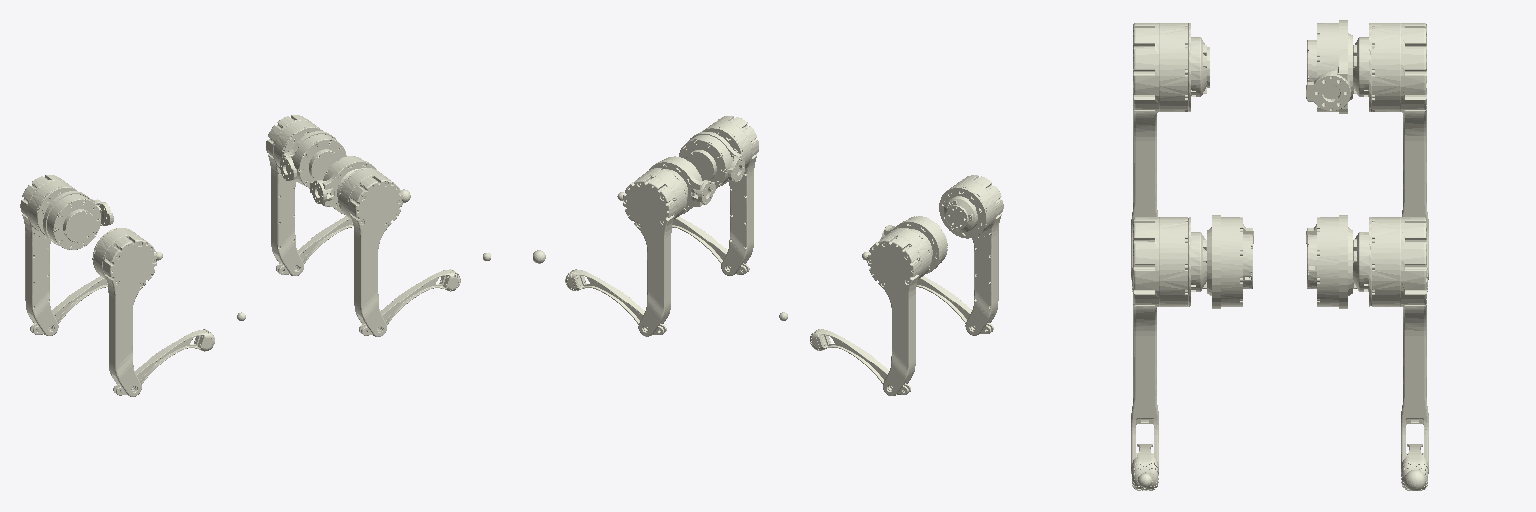
robot.urdf — mz_description:
<?xml version="1.0" ?>
<robot name="mz_description" xmlns:xacro="http://www.ros.org/wiki/xacro">
  <material name="black">
    <color rgba="0.0 0.0 0.0 1.0"/>
  </material>
  <material name="blue">
    <color rgba="0.0 0.0 0.8 1.0"/>
  </material>
  <material name="green">
    <color rgba="0.0 0.8 0.0 1.0"/>
  </material>
  <material name="grey">
    <color rgba="0.2 0.2 0.2 1.0"/>
  </material>
  <material name="silver">
    <color rgba="0.913725490196 0.913725490196 0.847058823529 1.0"/>
  </material>
  <material name="orange">
    <color rgba="0.12 0.15 0.2 1.0"/>
  </material>
  <material name="brown">
    <color rgba="0.870588235294 0.811764705882 0.764705882353 1.0"/>
  </material>
  <material name="red">
    <color rgba="0.8 0.0 0.0 1.0"/>
  </material>
  <material name="white">
    <color rgba="1.0 1.0 1.0 1.0"/>
  </material>

  <link name="base">
    <visual>
      <origin rpy="0 0 0" xyz="0 0 0"/>
      <geometry>
        <box size="0.001 0.001 0.001"/>
      </geometry>
    </visual>
  </link>
  <joint name="floating_base" type="fixed">
    <origin rpy="0 0 0" xyz="0 0 0"/>
    <parent link="base"/>
    <child link="trunk"/>
  </joint>

  <link name="trunk">
    <visual>
      <origin rpy="0 0 0" xyz="0 0 0"/>
      <geometry>
        <mesh filename="package://mz_description/meshes/trunk.dae" scale="1 1 1"/>
      </geometry>
      <material name="silver"/>
    </visual>
    <collision>
      <origin rpy="0 0 0" xyz="0 0 0.075"/>
      <geometry>
        <box size="0.470 0.3 0.150"/>
      </geometry>
    </collision>
    <!-- <collision>
      <origin rpy="0 0 0" xyz="0.33 0 0.075"/>
      <geometry>
        <box size="0.18 0.14 0.150"/>
      </geometry>
    </collision> -->
    <inertial>
      <origin rpy="0 0 0" xyz="0.038238 -0.0086038 -0.0003117"/>
      <mass value="16.6"/>
      <inertia ixx="0.124986" ixy="-2.879308e-04" ixz="0.001458170" iyy="0.491519" iyz="-6.43446e-04" izz="0.5473926"/>
    </inertial>
  </link>

  <joint name="imu_joint" type="fixed">
    <parent link="trunk"/>
    <child link="imu_link"/>
    <origin rpy="0 0 0" xyz="0 0 0"/>
  </joint>
  <link name="imu_link">
    <inertial>
      <mass value="0.001"/>
      <origin rpy="0 0 0" xyz="0 0 0"/>
      <inertia ixx="0.000001" ixy="0" ixz="0" iyy="0.000001" iyz="0" izz="0.000001"/>
    </inertial>
    <visual>
      <origin rpy="0 0 0" xyz="0 0 0"/>
      <geometry>
        <box size="0.001 0.001 0.001"/>
      </geometry>
      <material name="silver"/>
    </visual>
  </link>

  <joint name="FR_hip_joint" type="revolute">
    <origin rpy="0 0 0" xyz="0.22626 -0.070008 0.075"/>
    <parent link="trunk"/>
    <child link="FR_hip"/>
    <axis xyz="1 0 0"/>
    <dynamics damping="0" friction="0"/>
    <limit effort="60" lower="-1.04" upper="1.04" velocity="9"/>
  </joint>

  <link name="FR_hip">
    <visual>
      <origin xyz="0 0 0" rpy="0 0 0" />
      <geometry>
        <mesh filename="package://mz_description/meshes/FR_hip.dae" scale="1 1 1"/>
      </geometry>
      <material name="silver"/>
    </visual>
    <!-- <collision>
      <origin rpy="1.57079632679 0 0" xyz="0 0 0"/>
      <geometry>
        <cylinder length="0.04" radius="0.046"/>
      </geometry>
    </collision> -->
    <inertial>
      <origin rpy="0 0 0" xyz="0.083541 -0.0016537 1.2994E-05"/>
      <mass value="1.6"/>
      <inertia ixx="0.001582101" ixy="-0.0001151304" ixz="-4.046387E-06" iyy="0.002797035" iyz="0.000004285818" izz="0.001731282"/>
    </inertial>
  </link>

  <joint name="FR_hip_fixed" type="fixed">
    <origin rpy="0 0 0" xyz="0 -0.081 0"/>
    <parent link="FR_hip"/>
    <child link="FR_thigh_shoulder"/>
  </joint>
  <!-- this link is only for collision -->
  <link name="FR_thigh_shoulder">
    <!-- <collision>
      <origin rpy="1.57079632679 0 0" xyz="0 0 0"/>
      <geometry>
        <cylinder length="0.032" radius="0.041"/>
      </geometry>
    </collision> -->
  </link>

  <joint name="FR_thigh_joint" type="revolute">
    <origin rpy="0 0 0" xyz="0.08775 -0.02125 0"/>
    <parent link="FR_hip"/>
    <child link="FR_thigh"/>
    <axis xyz="0 1 0"/>
    <dynamics damping="0" friction="0"/>
    <limit effort="60" lower="-1.482" upper="3.9269" velocity="9"/>
  </joint>

  <link name="FR_thigh">
    <visual>
      <origin rpy="0 0 0" xyz="0 0 0"/>
      <geometry>
        <mesh filename="package://mz_description/meshes/thigh.dae" scale="1 1 1"/>
      </geometry>
      <material name="silver"/>
    </visual>
    <collision>
      <origin xyz="-0.022 -0.094 -0.115" rpy="0 0 0" />
      <geometry>
        <box size="0.04 0.025 0.30"/>
      </geometry>
    </collision>
    <inertial>
      <origin rpy="0 0 0" xyz="-0.0027386 -0.061044 -0.025431"/>
      <mass value="2.7"/>
      <inertia ixx="0.0370827" ixy="-0.0005225046" ixz="-0.002171109" iyy="0.03654717" iyz="-0.004972422" izz="0.004880799"/>
    </inertial>
  </link>

  <joint name="FR_calf_joint" type="revolute">
    <origin rpy="0 0 0" xyz="0 -0.09275 -0.3"/>
    <parent link="FR_thigh"/>
    <child link="FR_calf"/>
    <axis xyz="0 1 0"/>
    <dynamics damping="0" friction="0"/>
    <limit effort="60" lower="-2.8099" upper="-1.0297" velocity="9"/>
  </joint>

  <link name="FR_calf">
    <visual>
      <origin rpy="0 0 0" xyz="0 0 0"/>
      <geometry>
        <mesh filename="package://mz_description/meshes/calf.dae" scale="1 1 1"/>
      </geometry>
      <material name="silver"/>
    </visual>
    <collision>
      <origin xyz="0.018 0 -0.11" rpy="0 -0.30 0" />
      <geometry>
        <box size= "0.02 0.02 0.18"/>
      </geometry>
    </collision>
    <collision>
      <origin xyz="0.03 0 -0.245" rpy="0 0.35 0" />
      <geometry>
        <box size= "0.02 0.02 0.08"/>
      </geometry>
    </collision>
    <inertial>
      <origin rpy="0 0 0" xyz="0.0079835 -6.7794E-06 -0.18022"/>
      <mass value="0.23"/>
      <inertia ixx="0.00650717" ixy="0.0" ixz="0.0003660643" iyy="0.006566385" iyz="0.0" izz="0.0001884405"/>
    </inertial>
  </link>

  <joint name="FR_foot_fixed" type="fixed" dont_collapse="true">
    <origin rpy="0 0 0" xyz="0 0 -0.302"/>
    <parent link="FR_calf"/>
    <child link="FR_foot"/>
  </joint>

  <link name="FR_foot">
    <visual>
      <origin rpy="0 0 0" xyz="0 0 0"/>
      <geometry>
        <sphere radius="0.01"/>
      </geometry>
      <material name="silver"/>
    </visual>
    <collision>
      <origin rpy="0 0 0" xyz="0 0 0"/>
      <geometry>
        <!-- <sphere radius="0.02"/> -->
        <sphere radius="0.0235"/>
      </geometry>
    </collision>
    <inertial>
      <mass value="0.07"/>
      <inertia ixx="0.00002111109" ixy="0.0" ixz="0.000006111105" iyy="0.000022777755" iyz="0.0" izz="0.00002333331"/>
    </inertial>
  </link>

  <joint name="FL_hip_joint" type="revolute">
    <origin rpy="0 0 0" xyz="0.22626 0.069992 0.075"/>
    <parent link="trunk"/>
    <child link="FL_hip"/>
    <axis xyz="1 0 0"/>
    <dynamics damping="0" friction="0"/>
    <limit effort="60" lower="-1.04" upper="1.04" velocity="9"/>
  </joint>

  <link name="FL_hip">
    <visual>
      <!-- the same as a1 -->
      <origin rpy="0 0 0" xyz="0 0 0"/>
      <geometry>
        <mesh filename="package://mz_description/meshes/FL_hip.dae" scale="1 1 1"/>
      </geometry>
      <material name="silver"/>
    </visual>
    <inertial>
      <origin rpy="0 0 0" xyz="0.083541 0.0016537 -1.2994E-05"/>
      <mass value="1.6"/>
      <inertia ixx="0.001986561" ixy="0.000042857612" ixz="-0.00000022566089" iyy="0.002917609" iyz="0.00000000239428" izz="0.002219916"/>
    </inertial>
  </link>

  <joint name="FL_hip_fixed" type="fixed">
    <origin rpy="0 0 0" xyz="0 0.081 0"/>
    <parent link="FL_hip"/>
    <child link="FL_thigh_shoulder"/>
  </joint>
  <!-- this link is only for collision -->
  <link name="FL_thigh_shoulder">
    <!-- <collision>
      <origin rpy="1.57079632679 0 0" xyz="0 0 0"/>
      <geometry>
        <cylinder length="0.032" radius="0.041"/>
      </geometry>
    </collision> -->
  </link>

  <joint name="FL_thigh_joint" type="revolute">
    <origin rpy="0 0 0" xyz="0.08775 0.02125 0"/>
    <parent link="FL_hip"/>
    <child link="FL_thigh"/>
    <axis xyz="0 1 0"/>
    <dynamics damping="0" friction="0"/>
    <limit effort="60" lower="-1.482" upper="3.9269" velocity="9"/>
  </joint>

  <link name="FL_thigh">
    <visual>
      <origin rpy="0 0 0" xyz="0 0 0"/>
      <geometry>
        <mesh filename="package://mz_description/meshes/thigh_mirror.dae" scale="1 1 1"/>
      </geometry>
      <material name="silver"/>
    </visual>
    <collision>
      <origin xyz="-0.022 0.094 -0.115" rpy="0 0 0" />
      <geometry>
        <box size="0.04 0.025 0.30"/>
      </geometry>
    </collision>
    <inertial>
      <origin rpy="0 0 0" xyz="-0.0027198 0.061044 -0.025411"/>
      <mass value="2.7"/>
      <inertia ixx="0.0370822" ixy="0.0005224988" ixz="-0.002171101" iyy="0.03654652" iyz="0.00497237" izz="0.004880707"/>
    </inertial>
  </link>

  <joint name="FL_calf_joint" type="revolute">
    <origin rpy="0 0 0" xyz="0 0.09275 -0.3"/>
    <parent link="FL_thigh"/>
    <child link="FL_calf"/>
    <axis xyz="0 1 0"/>
    <dynamics damping="0" friction="0"/>
    <limit effort="60" lower="-2.8099" upper="-1.0297" velocity="9"/>
  </joint>

  <link name="FL_calf">
    <visual>
      <origin rpy="0 0 0" xyz="0 0 0"/>
      <geometry>
        <mesh filename="package://mz_description/meshes/calf.dae" scale="1 1 1"/>
      </geometry>
      <material name="silver"/>
    </visual>
    <collision>
      <origin xyz="0.018 0 -0.11" rpy="0 -0.30 0" />
      <geometry>
        <box size= "0.02 0.02 0.18"/>
      </geometry>
    </collision>
    <collision>
      <origin xyz="0.03 0 -0.245" rpy="0 0.35 0" />
      <geometry>
        <box size= "0.02 0.02 0.08"/>
      </geometry>
    </collision>
    <inertial>
      <origin rpy="0 0 0" xyz="0.0079835 -6.7598E-06 -0.18022"/>
      <mass value="0.23"/>
      <inertia ixx="0.006507178" ixy="0.0" ixz="0.0003660643" iyy="0.006566385" iyz="0.0" izz="0.0001884405"/>
    </inertial>
  </link>

  <joint name="FL_foot_fixed" type="fixed" dont_collapse="true">
    <origin rpy="0 0 0" xyz="0 0 -0.302"/>
    <parent link="FL_calf"/>
    <child link="FL_foot"/>
  </joint>

  <link name="FL_foot">
    <visual>
      <origin rpy="0 0 0" xyz="0 0 0"/>
      <geometry>
        <sphere radius="0.015"/>
      </geometry>
      <material name="silver"/>
    </visual>
    <collision>
      <origin rpy="0 0 0" xyz="0 0 0"/>
      <geometry>
        <sphere radius="0.0235"/>
      </geometry>
    </collision>
    <inertial>
      <mass value="0.07"/>
      <!-- the same as a1 -->
      <inertia ixx="2.1111e-05" ixy="0.0" ixz="0.000006111105" iyy="0.000022777755" iyz="0.0" izz="0.00002333331"/>
    </inertial>
  </link>


  <joint name="RR_hip_joint" type="revolute">
    <origin rpy="0 0 0" xyz="-0.22624 -0.070008 0.075"/>
    <parent link="trunk"/>
    <child link="RR_hip"/>
    <axis xyz="1 0 0"/>
    <dynamics damping="0" friction="0"/>
    <limit effort="60" lower="-1.04" upper="1.04" velocity="9"/>
  </joint>

  <link name="RR_hip">
    <visual>
      <origin rpy="0 0 0" xyz="0 0 0"/>
      <geometry>
        <mesh filename="package://mz_description/meshes/RR_hip.dae" scale="1 1 1"/>
      </geometry>
      <material name="silver"/>
    </visual>
    <inertial>
      <origin rpy="0 0 0" xyz="-0.083541 -0.0016537 -1.2994E-05"/>
      <mass value="1.6"/>
      <inertia ixx="0.001986561" ixy="0.00004285820" ixz="0.0000002256640" iyy="0.002917650" iyz="-0.000000002394313" izz="0.002219947"/>
    </inertial>
  </link>

  <joint name="RR_hip_fixed" type="fixed">
    <origin rpy="0 0 0" xyz="0 -0.081 0"/>
    <parent link="RR_hip"/>
    <child link="RR_thigh_shoulder"/>
  </joint>
  <!-- this link is only for collision -->
  <link name="RR_thigh_shoulder">
    <!-- <collision>
      <origin rpy="1.57079632679 0 0" xyz="0 0 0"/>
      <geometry>
        <cylinder length="0.032" radius="0.041"/>
      </geometry>
    </collision> -->
  </link>

  <joint name="RR_thigh_joint" type="revolute">
    <origin rpy="0 0 0" xyz="-0.08775 -0.02125 0"/>
    <parent link="RR_hip"/>
    <child link="RR_thigh"/>
    <axis xyz="0 1 0"/>
    <dynamics damping="0" friction="0"/>
    <limit effort="60" lower="-0.6981" upper="4.7123" velocity="9"/>
  </joint>

  <link name="RR_thigh">
    <visual>
      <origin rpy="0 0 0" xyz="0 0 0"/>
      <geometry>
        <mesh filename="package://mz_description/meshes/thigh.dae" scale="1 1 1"/>
      </geometry>
      <material name="silver"/>
    </visual>
    <collision>
      <origin xyz="-0.022 -0.094 -0.115" rpy="0 0 0" />
      <geometry>
        <box size="0.04 0.025 0.30"/>
      </geometry>
    </collision>
    <inertial>
      <origin rpy="0 0 0" xyz="-0.0027386 -0.061044 -0.025431"/>
      <mass value="2.7"/>
      <inertia ixx="0.0370827" ixy="-0.000522505" ixz="-0.002171130" iyy="0.03654701" iyz="-0.00497243" izz="0.00488077"/>
    </inertial>
  </link>

  <joint name="RR_calf_joint" type="revolute">
    <origin rpy="0 0 0" xyz="0 -0.09275 -0.3"/>
    <parent link="RR_thigh"/>
    <child link="RR_calf"/>
    <axis xyz="0 1 0"/>
    <dynamics damping="0" friction="0"/>
    <limit effort="60" lower="-2.8099" upper="-1.0297" velocity="9"/>
  </joint>

  <link name="RR_calf">
    <visual>
      <origin rpy="0 0 0" xyz="0 0 0"/>
      <geometry>
        <mesh filename="package://mz_description/meshes/calf.dae" scale="1 1 1"/>
      </geometry>
      <material name="silver"/>
    </visual>
    <collision>
      <origin xyz="0.018 0 -0.11" rpy="0 -0.30 0" />
      <geometry>
        <box size= "0.02 0.02 0.18"/>
      </geometry>
    </collision>
    <collision>
      <origin xyz="0.03 0 -0.245" rpy="0 0.35 0" />
      <geometry>
        <box size= "0.02 0.02 0.08"/>
      </geometry>
    </collision>
    <inertial>
      <origin rpy="0 0 0" xyz="0.0079835 -6.7795E-06 -0.18022"/>
      <mass value="0.23"/>
      <inertia ixx="0.00650709" ixy="0.0" ixz="0.0003660599" iyy="0.006566306" iyz="0.0" izz="0.0001884383"/>
      <!-- <inertia ixx="0.0034783165033113" ixy="0.0" ixz="-2.095735099337748e-4" iyy="0.0035020471523179" iyz="0.0" izz="4.622113907284768e-5" /> -->
    </inertial>
  </link>

  <joint name="RR_foot_fixed" type="fixed" dont_collapse="true">
    <origin rpy="0 0 0" xyz="0 0 -0.302"/>
    <parent link="RR_calf"/>
    <child link="RR_foot"/>
  </joint>
  <link name="RR_foot">
    <visual>
      <origin rpy="0 0 0" xyz="0 0 0"/>
      <geometry>
        <sphere radius="0.01"/>
      </geometry>
      <material name="silver"/>
    </visual>
    <collision>
      <origin rpy="0 0 0" xyz="0 0 0"/>
      <geometry>
        <sphere radius="0.0235"/>
      </geometry>
    </collision>
    <inertial>
      <mass value="0.07"/>
      <!-- the same as a1 -->
      <inertia ixx="2.11111e-05" ixy="0.0" ixz="0.000006111105" iyy="0.00002277775" iyz="0.0" izz="0.00002333331"/>
    </inertial>
  </link>


  <joint name="RL_hip_joint" type="revolute">
    <origin rpy="0 0 0" xyz="-0.22624 0.069992 0.075"/>
    <parent link="trunk"/>
    <child link="RL_hip"/>
    <axis xyz="1 0 0"/>
    <dynamics damping="0" friction="0"/>
    <limit effort="60" lower="-1.04" upper="1.04" velocity="9"/>
  </joint>

  <link name="RL_hip">
    <visual>
      <origin xyz="0 0 0" rpy="0 0 0" />
      <geometry>
        <mesh filename="package://mz_description/meshes/RL_hip.dae" scale="1 1 1"/>
      </geometry>
      <material name="silver"/>
    </visual>
    <inertial>
      <origin rpy="0 0 0" xyz="0.0037743 0.0038894 7.8535E-05"/>
      <mass value="1.6"/>
      <inertia ixx="0.001582101" ixy="-0.0001151304" ixz="0.000004046387" iyy="0.00279703" iyz="-0.000004285818" izz="0.002047615"/>
    </inertial>
  </link>

  <joint name="RL_hip_fixed" type="fixed">
    <origin rpy="0 0 0" xyz="0 0.081 0"/>
    <parent link="RL_hip"/>
    <child link="RL_thigh_shoulder"/>
  </joint>
  <!-- this link is only for collision -->
  <link name="RL_thigh_shoulder">
    <!-- <collision>
      <origin rpy="1.57079632679 0 0" xyz="0 0 0"/>
      <geometry>
        <cylinder length="0.032" radius="0.041"/>
      </geometry>
    </collision> -->
  </link>

  <joint name="RL_thigh_joint" type="revolute">
    <origin rpy="0 0 0" xyz="-0.08775 0.02125 0"/>
    <parent link="RL_hip"/>
    <child link="RL_thigh"/>
    <axis xyz="0 1 0"/>
    <dynamics damping="0" friction="0"/>
    <limit effort="60" lower="-0.6981" upper="4.7123" velocity="9"/>
  </joint>

  <link name="RL_thigh">
    <visual>
      <origin rpy="0 0 0" xyz="0 0 0"/>
      <geometry>
        <mesh filename="package://mz_description/meshes/thigh_mirror.dae" scale="1 1 1"/>
      </geometry>
      <material name="silver"/>
    </visual>
    <collision>
      <origin xyz="-0.022 0.094 -0.115" rpy="0 0 0" />
      <geometry>
        <box size="0.04 0.025 0.30"/>
      </geometry>
    </collision>
    <inertial>
      <origin rpy="0 0 0" xyz="-0.0027198 0.061044 -0.025411"/>
      <mass value="2.7"/>
      <inertia ixx="0.0370827" ixy="0.000522504" ixz="-0.002171109" iyy="0.0365471" iyz="0.00497242" izz="0.004880799"/>
    </inertial>
  </link>

  <joint name="RL_calf_joint" type="revolute">
    <origin rpy="0 0 0" xyz="0 0.09275 -0.3"/>
    <parent link="RL_thigh"/>
    <child link="RL_calf"/>
    <axis xyz="0 1 0"/>
    <dynamics damping="0" friction="0"/>
    <limit effort="60" lower="-2.8099" upper="-1.0297" velocity="9"/>
  </joint>

  <link name="RL_calf">
    <visual>
      <origin rpy="0 0 0" xyz="0 0 0"/>
      <geometry>
        <mesh filename="package://mz_description/meshes/calf.dae" scale="1 1 1"/>
      </geometry>
      <material name="silver"/>
    </visual>
    <collision>
      <origin xyz="0.018 0 -0.11" rpy="0 -0.30 0" />
      <geometry>
        <box size= "0.02 0.02 0.18"/>
      </geometry>
    </collision>
    <collision>
      <origin xyz="0.03 0 -0.245" rpy="0 0.35 0" />
      <geometry>
        <box size= "0.02 0.02 0.08"/>
      </geometry>
    </collision>
    <inertial>
      <origin rpy="0 0 0" xyz="0.0079835 -6.7801E-06 -0.18022"/>
      <mass value="0.23"/>
      <inertia ixx="0.006507167" ixy="0.0" ixz="0.0003660637" iyy="0.006566375" iyz="0.0" izz="0.0001884402"/>
      <!-- <inertia ixx="0.0034783165033113" ixy="0.0" ixz="-1.614571428571429e-4" iyy="0.0026824344538288" iyz="0.0" izz="3.540362837837838e-5" /> -->
    </inertial>
  </link>

  <joint name="RL_foot_fixed" type="fixed" dont_collapse="true">
    <origin rpy="0 0 0" xyz="0 0 -0.302"/>
    <parent link="RL_calf"/>
    <child link="RL_foot"/>
  </joint>
  <link name="RL_foot">
    <visual>
      <origin rpy="0 0 0" xyz="0 0 0"/>
      <geometry>
        <sphere radius="0.01"/>
      </geometry>
      <material name="silver"/>
    </visual>
    <collision>
      <origin rpy="0 0 0" xyz="0 0 0"/>
      <geometry>
        <sphere radius="0.0235"/>
      </geometry>
    </collision>
    <inertial>
      <mass value="0.07"/>
      <!-- the same as a1 -->
      <inertia ixx="0.00002111109" ixy="0.0" ixz="0.000006111105" iyy="0.00002277775" iyz="0.0" izz="0.00002333331"/>
    </inertial>
  </link>
</robot>

--- Facts derived from the render (not from the file) ---
Views: 3 orthographic renders of the robot side by side, from view 1: azimuth 30°, elevation 25°; view 2: azimuth 150°, elevation 25°; view 3: azimuth 270°, elevation 25°.
Model mz_description with 23 links and 22 joints (12 revolute, 10 fixed), rooted at base, posed all joints at 0 but 4 set to mid-range because 0 is outside their limits (FR_calf_joint = -1.92, FL_calf_joint = -1.92, RR_calf_joint = -1.92, RL_calf_joint = -1.92).
Links seen in each view (by area): view 1: FR_thigh, RR_thigh, RL_thigh, FL_thigh, RL_hip, FL_hip, FR_hip, FR_calf, RR_calf, RL_calf, FL_calf; view 2: RL_thigh, FL_thigh, RR_thigh, FR_thigh, FR_hip, FL_hip, FL_calf, RL_calf, RL_hip, FR_calf, RR_calf; view 3: FL_thigh, FR_thigh, RR_thigh, RL_thigh, FR_hip, FL_hip, RL_hip, FR_calf, FL_calf.
Link boxes in pixels (<box>): FR_thigh: <box>338,168,402,336</box>; RR_thigh: <box>92,228,156,396</box>; RL_thigh: <box>20,175,76,335</box>; FL_thigh: <box>266,115,322,275</box>; RL_hip: <box>43,191,113,249</box>; FL_hip: <box>280,131,346,188</box>; FR_hip: <box>310,156,376,214</box>; FR_calf: <box>359,269,460,335</box>; RR_calf: <box>113,329,214,395</box>; RL_calf: <box>30,276,107,334</box>; FL_calf: <box>276,216,353,275</box>; RL_thigh: <box>867,228,931,395</box>; FL_thigh: <box>623,168,686,336</box>; RR_thigh: <box>939,175,1003,335</box>; FR_thigh: <box>702,116,758,275</box>; FR_hip: <box>679,132,744,188</box>; FL_hip: <box>649,156,715,214</box>; FL_calf: <box>565,269,666,335</box>; RL_calf: <box>810,329,910,395</box>; RL_hip: <box>881,216,947,273</box>; FR_calf: <box>672,216,749,274</box>; RR_calf: <box>916,276,993,333</box>; FL_thigh: <box>1353,217,1428,473</box>; FR_thigh: <box>1131,217,1206,473</box>; RR_thigh: <box>1131,23,1209,279</box>; RL_thigh: <box>1353,23,1428,279</box>; FR_hip: <box>1207,215,1253,308</box>; FL_hip: <box>1306,215,1352,308</box>; RL_hip: <box>1306,20,1352,113</box>; FR_calf: <box>1132,444,1158,490</box>; FL_calf: <box>1401,444,1427,490</box>.
Bounding box of the posed robot: 0.9905 × 0.406 × 0.3844 m (x, y, z).
Meshes: 8 distinct files referenced, 11 mesh visuals loaded (6 Collada DAE); not drawn: 2 (reference not matched to a file when rendering).
